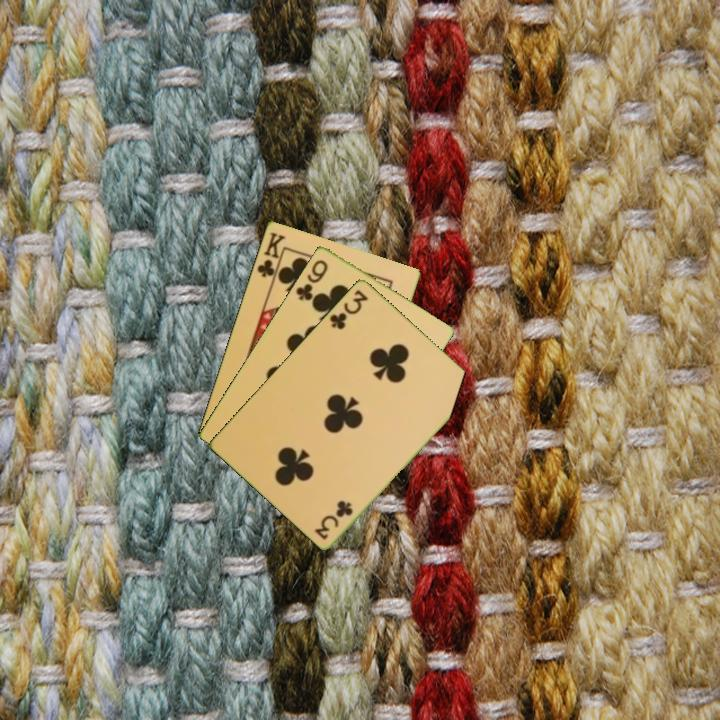3c: (326, 286, 371, 332), (311, 497, 356, 542)
9c: (292, 256, 331, 303)
Kc: (253, 228, 288, 285)
